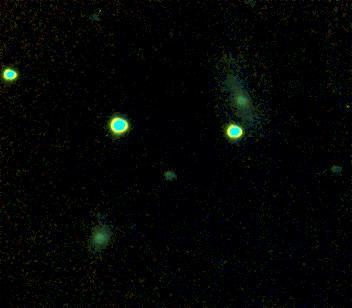star: (238, 102, 268, 132)
